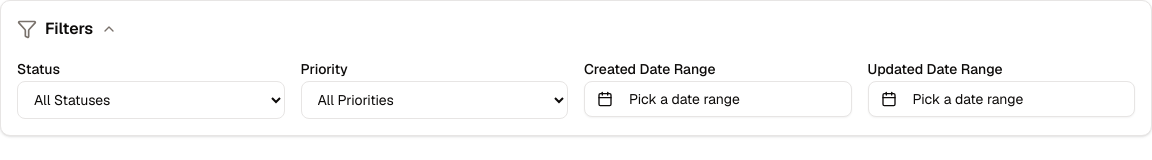
Test: TaskFilterPanel › expand/collapse functionality › toggles collapse when filter header is clicked
Note: Click the filter header to collapse
Click the button "Filters" at (67, 29), box 17,17 -> 117,41
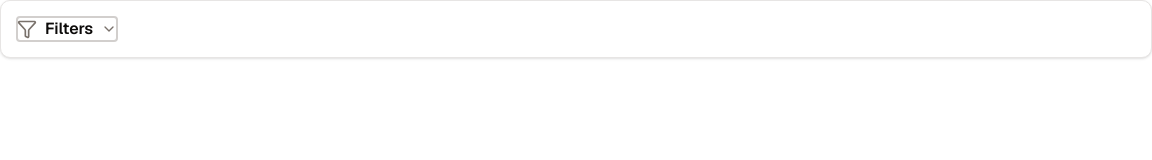
expect the label labelled "Status" is gone: met
expect the label labelled "Priority" is gone: met
